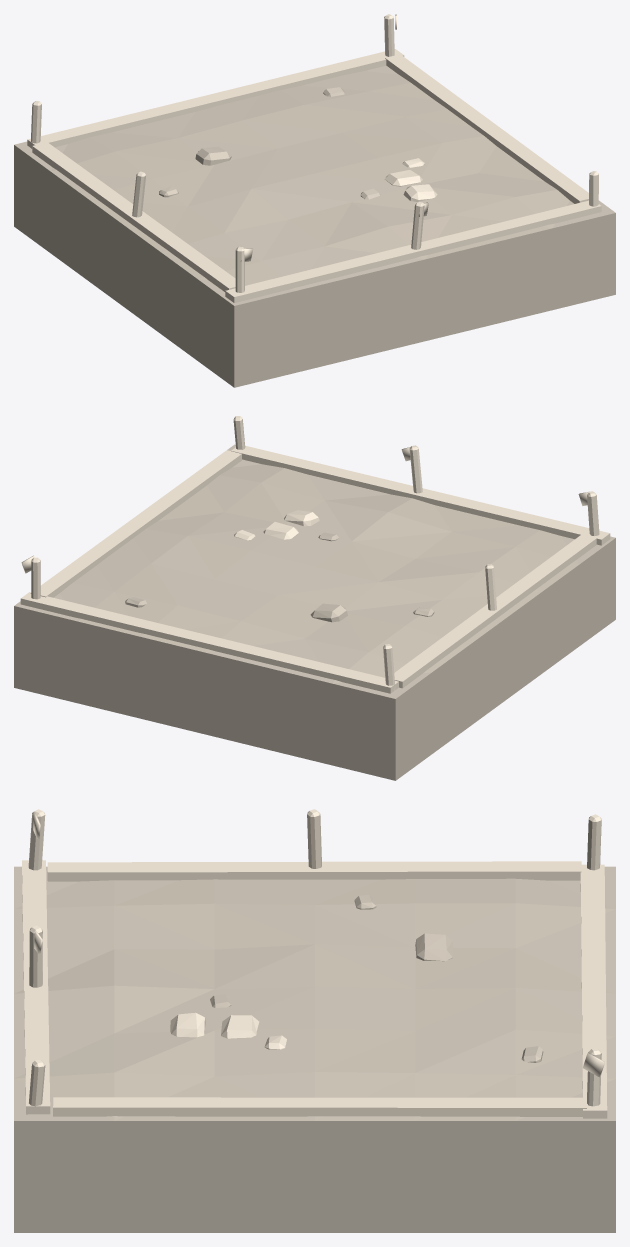
File: SM_VK_BuildSite_Cell.fbx
3 renders of one model, top to bottom at view 1: azimuth 30°, elevation 25°; view 2: azimuth 150°, elevation 25°; view 3: azimuth 270°, elevation 25°, orthographic. The views are drawn at different scales.
Visible parts, largest first — view 1: SM_VK_BuildSite_Cell.001; view 2: SM_VK_BuildSite_Cell.001; view 3: SM_VK_BuildSite_Cell.001.
Boxes of the visible parts, box(x1,y1,x2,y2) form: SM_VK_BuildSite_Cell.001: box(14, 14, 615, 387); SM_VK_BuildSite_Cell.001: box(14, 416, 615, 780); SM_VK_BuildSite_Cell.001: box(14, 809, 615, 1232).
Bounding box in the file's own units: 3 × 0.9923 × 3.
